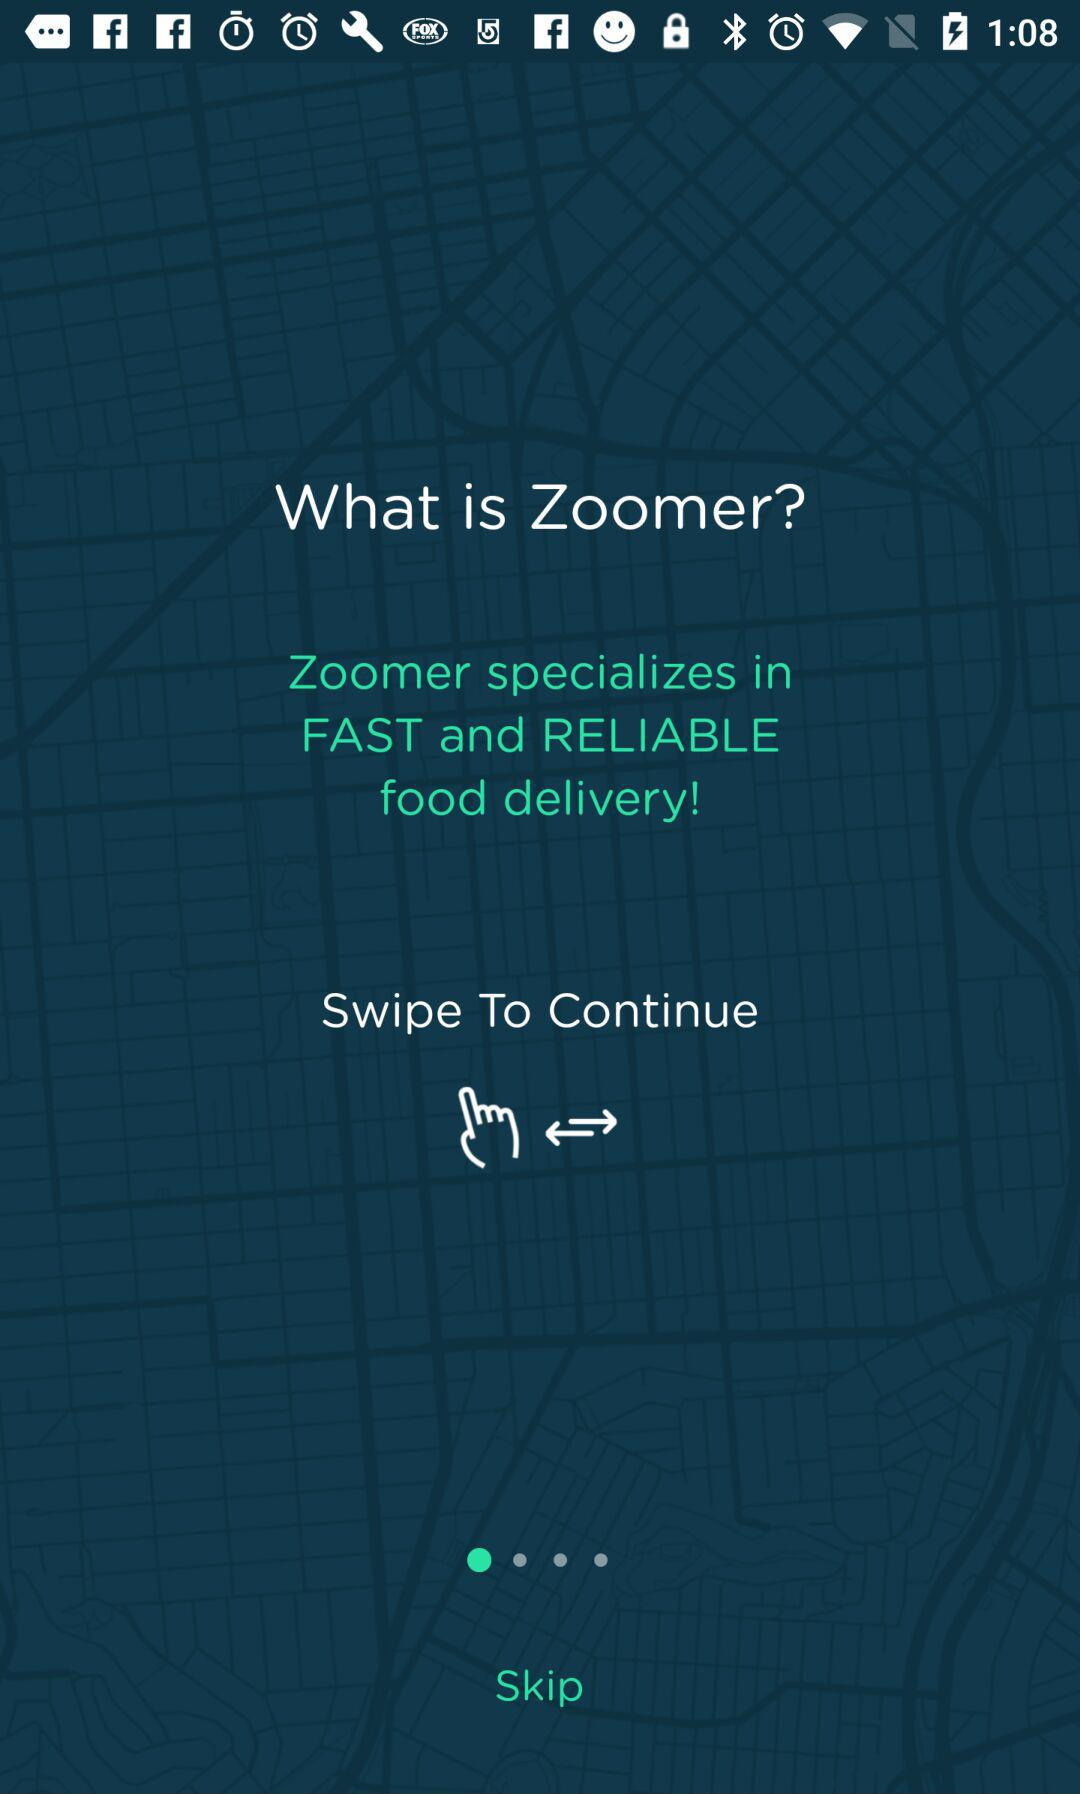BackgroundImage: (1, 64, 1080, 1794)
Icon: (544, 1108, 619, 1148)
Image: (457, 1085, 521, 1170)
PageIndicator: (466, 1545, 610, 1574)
Text: (290, 652, 792, 825), (274, 482, 806, 533), (322, 992, 758, 1035), (496, 1668, 584, 1708)
UpperTaskBar: (1, 1, 1080, 64)
